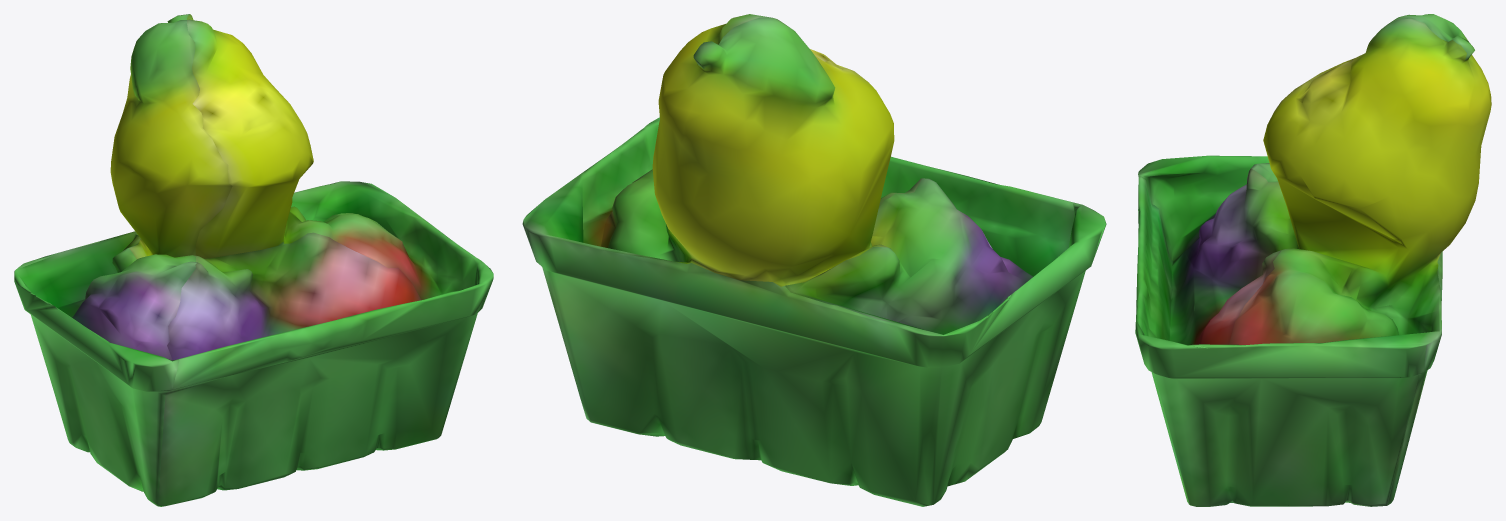
File: Squirt_Strain_Fruit_Basket-medium.glb
The picture shows the model from 3 angles, left to right: view 1: azimuth 30°, elevation 25°; view 2: azimuth 150°, elevation 25°; view 3: azimuth 270°, elevation 25°; orthographic projection. The views are drawn at different scales.
Parts seen in each view (by area): view 1: Squirt_Strain_Fruit_Basket; view 2: Squirt_Strain_Fruit_Basket; view 3: Squirt_Strain_Fruit_Basket.
Part boxes in pixels (box(x1,y1,x2,y2)): Squirt_Strain_Fruit_Basket: box(14, 14, 493, 506); Squirt_Strain_Fruit_Basket: box(522, 14, 1106, 506); Squirt_Strain_Fruit_Basket: box(1135, 14, 1491, 506).
Size of the model in its own units: 0.114 by 0.1127 by 0.0885.
1 material, 1 textured.
